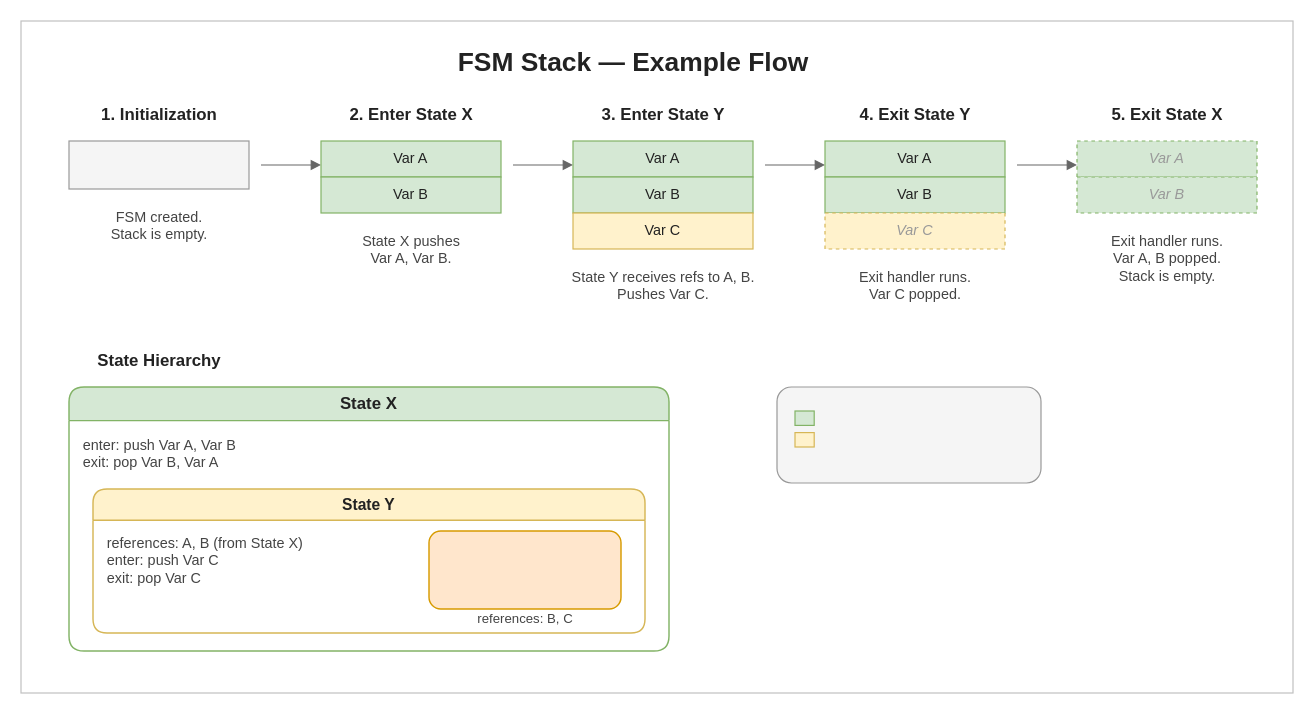
Some shapes in this 1314 by 714 pixel diagram are drawn without their labels. The shapes that lost their labels are listed below. From the top down, each one's box as (x1, y1, x2, y2) in pixels, then its label:
(68, 140, 249, 189): (empty)
(776, 386, 1041, 483): pushed by State X pushed by State Y dashed = being popped
(428, 530, 621, 609): State Z
